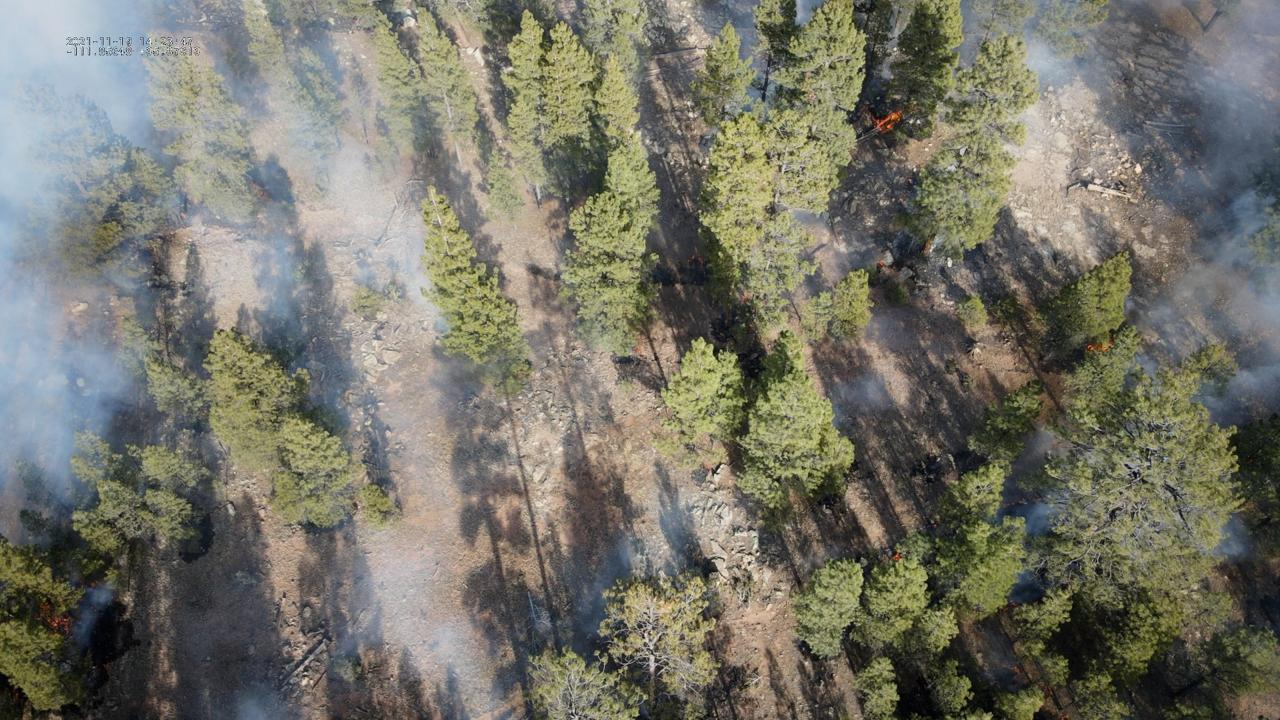fire: (28, 600, 61, 631), (1081, 333, 1114, 355), (871, 109, 900, 133), (697, 462, 708, 472), (892, 550, 900, 562), (1008, 666, 1018, 670)
smoke: (0, 0, 449, 650), (994, 0, 1280, 609), (335, 536, 507, 720), (933, 0, 992, 102), (726, 52, 777, 128), (820, 378, 875, 436), (231, 678, 301, 720), (652, 535, 697, 593), (969, 659, 1016, 694), (788, 0, 828, 29), (930, 581, 962, 601)
